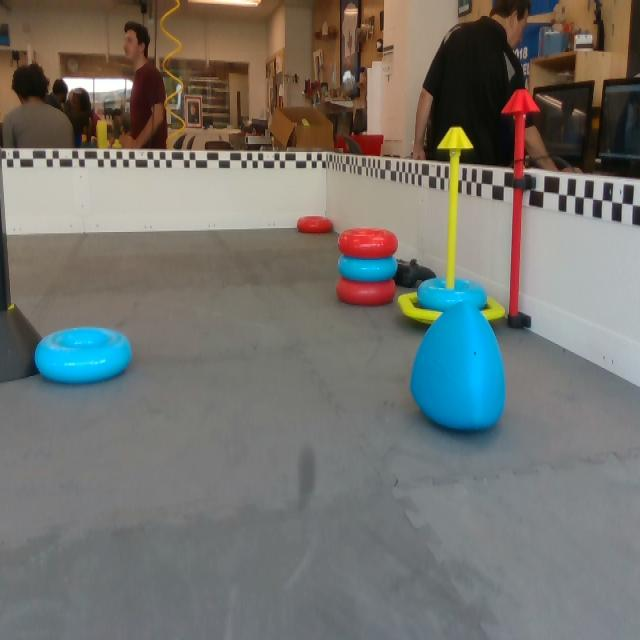Blue-Ring: (33, 327, 134, 387), (417, 279, 494, 312), (338, 255, 398, 281)
Mobile-Goal: (398, 124, 504, 327)
Red-Ring: (338, 228, 398, 260), (336, 277, 396, 305), (298, 216, 333, 235)
Yellow-Stake-Head: (436, 125, 473, 152)
zred-Stake-Head: (502, 89, 540, 114)
